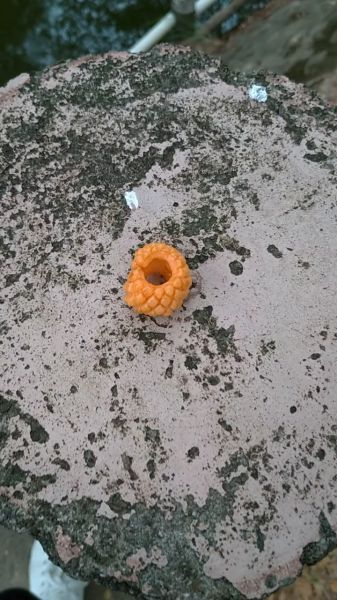eggs: (117, 239, 197, 317)
